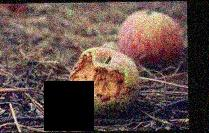rotten apple: (58, 45, 140, 118)
